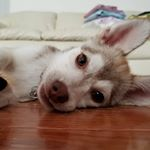puppy: (2, 15, 150, 116)
